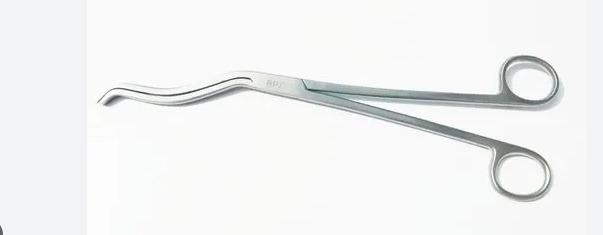Cheatle Forceps: (93, 47, 561, 202)
